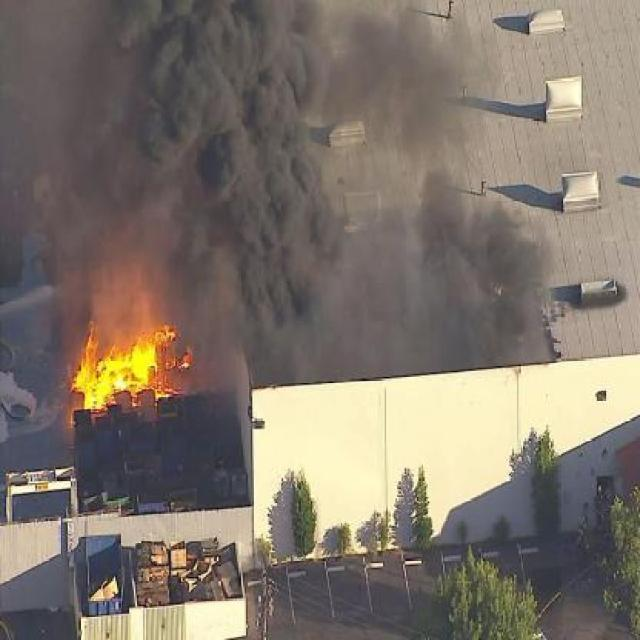Fire: (48, 294, 204, 410)
Smoke: (9, 0, 550, 371)
